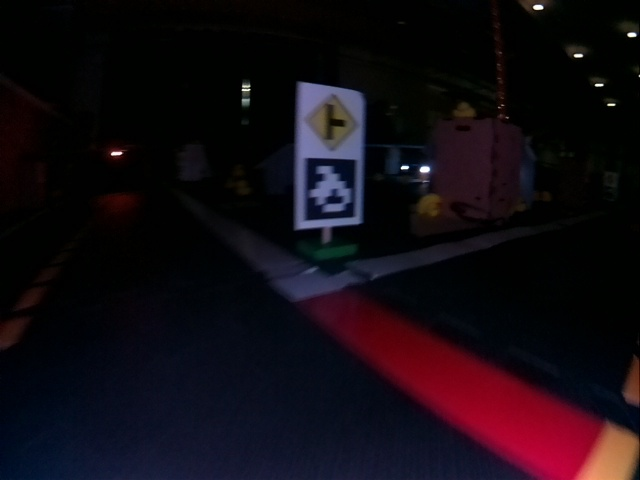Duckie: (419, 194, 439, 216), (456, 102, 475, 116)
Intersection sign: (303, 91, 360, 153)
QR code: (301, 158, 358, 223)
